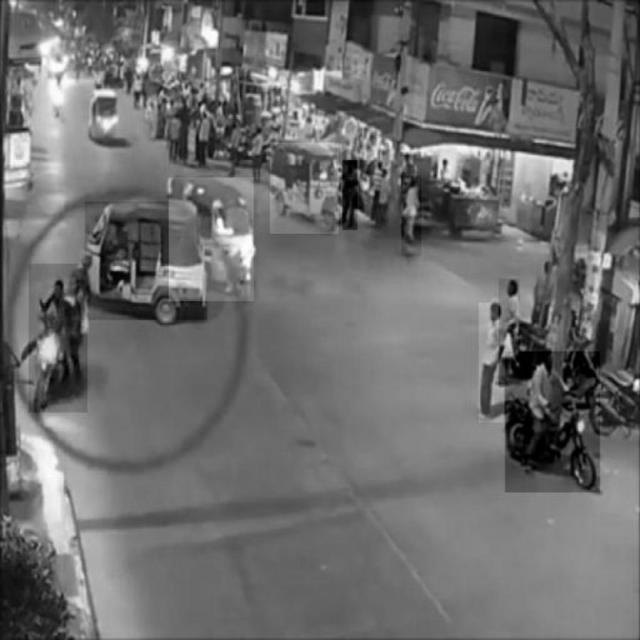person: (479, 303, 504, 423), (499, 279, 519, 387), (402, 176, 422, 256), (343, 160, 358, 231)
vehicle: (85, 202, 209, 320), (505, 351, 599, 492), (169, 178, 253, 302), (29, 264, 87, 412), (270, 143, 338, 234)
